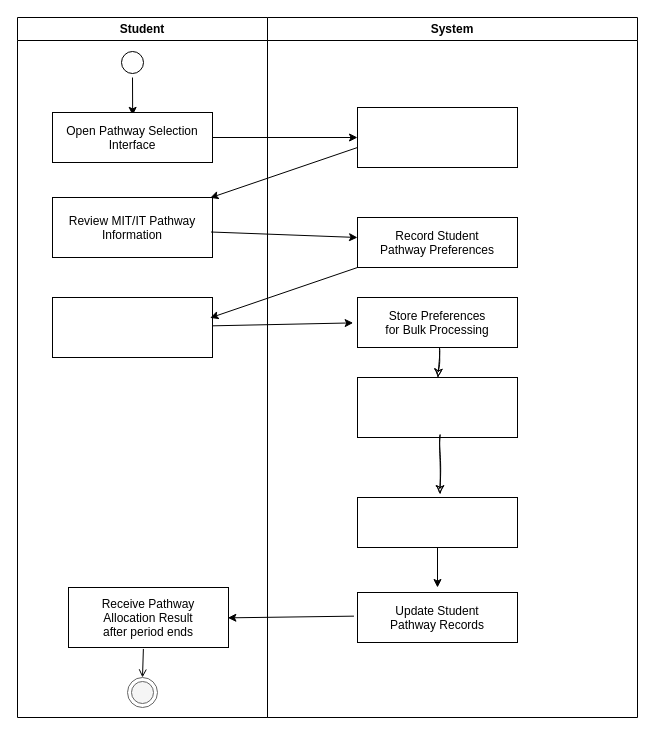
The diagram is 655 pixels wide and 735 high, and some of its shapes have lost their labels. The shapes that lost their labels are listed below. From the top down, each one's centre as x and y in pixels, then its label:
At pixel 437 137: "Display MIT/IT Pathway Information & Selection Period".
At pixel 132 327: "Submit Pathway Preferences (Rank MIT/IT)".
At pixel 437 407: "Bulk Process All Student Preferences (After Period Ends)".
At pixel 437 522: "Allocate Pathways Based on GPA & Demand".
